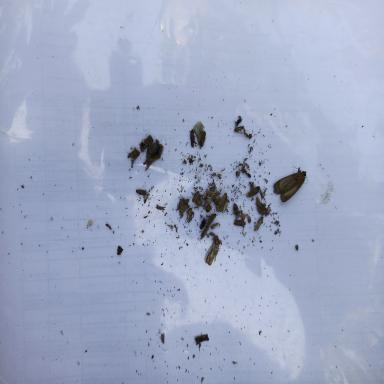abw: (272, 167, 308, 202), (192, 121, 206, 147)
pbw: (246, 184, 260, 198), (190, 126, 198, 148), (199, 225, 209, 242), (206, 213, 218, 225), (255, 215, 264, 231), (234, 116, 243, 130), (178, 197, 184, 217), (135, 188, 150, 196), (255, 195, 262, 212), (187, 207, 194, 224), (199, 216, 207, 229), (191, 190, 199, 202), (233, 219, 246, 226), (234, 125, 244, 134), (206, 190, 216, 196), (212, 198, 220, 205), (244, 172, 252, 178), (242, 165, 245, 174)
